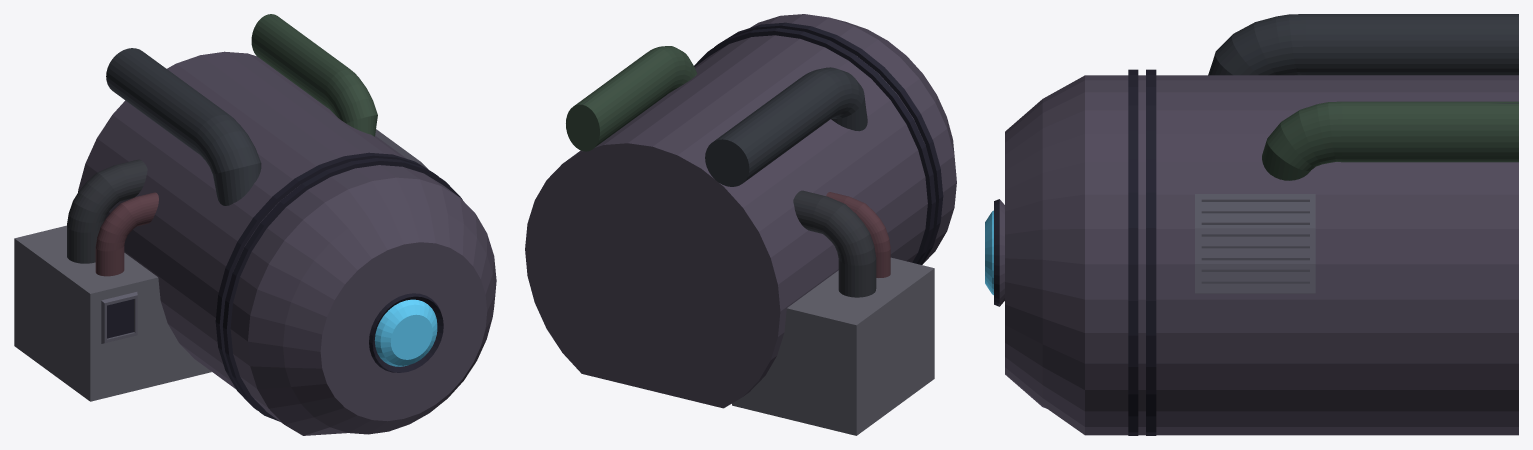
File: engine.fbx
3 views of the same model, side by side, from view 1: azimuth 30°, elevation 25°; view 2: azimuth 150°, elevation 25°; view 3: azimuth 270°, elevation 25° (orthographic). The views are drawn at different scales.
Parts seen in each view (by area): view 1: Engine; view 2: Engine; view 3: Engine.
Part boxes in pixels (x1,y1,x2,y2): Engine: [14, 14, 496, 435]; Engine: [525, 14, 956, 435]; Engine: [985, 14, 1518, 435].
Bounding box in the file's own units: 808 × 635 × 924.
